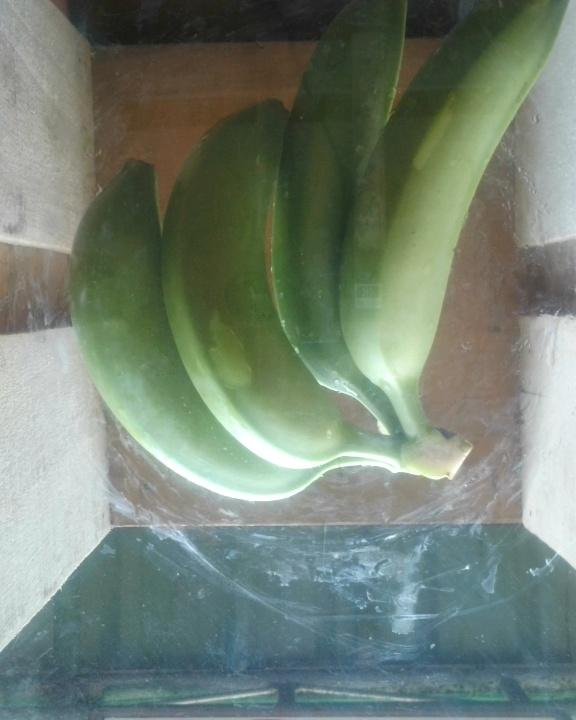SPOT: (59, 2, 571, 497)
